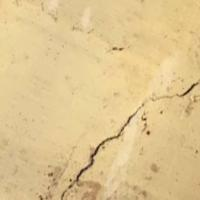crack: (55, 69, 199, 199)
